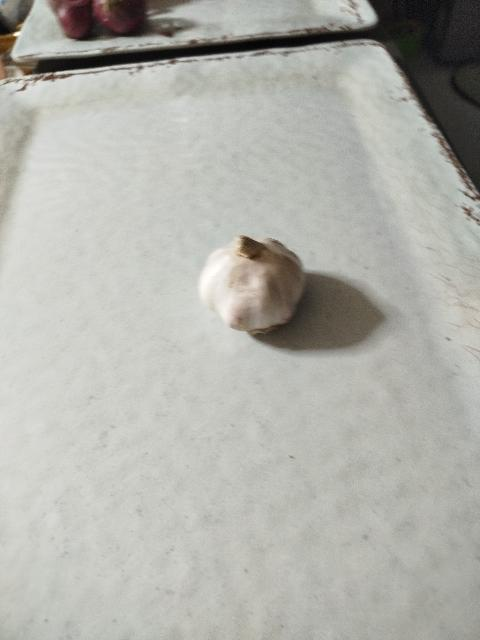garlic: (198, 234, 306, 336)
